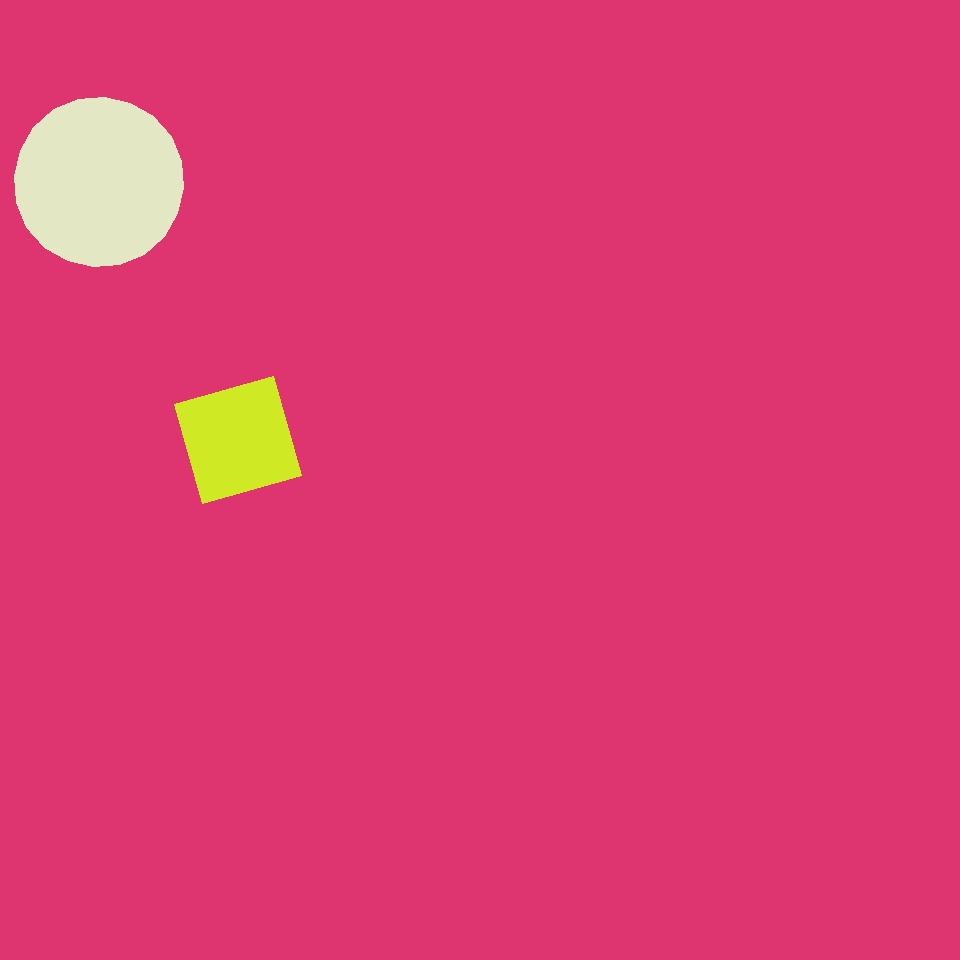square: (174, 376, 302, 503), (204, 491, 287, 573)
triangle: (512, 233, 836, 558), (254, 149, 525, 420), (14, 97, 184, 266)
